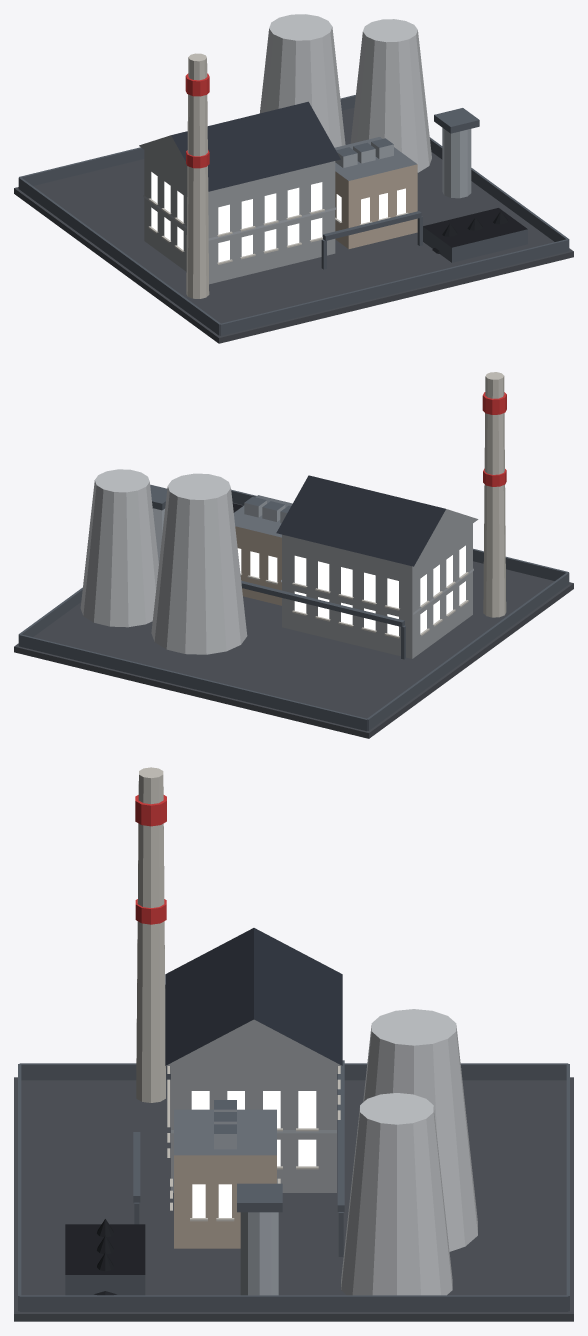
The picture shows the model from 3 angles, top to bottom: view 1: azimuth 30°, elevation 25°; view 2: azimuth 150°, elevation 25°; view 3: azimuth 270°, elevation 25°; orthographic projection. The views are drawn at different scales.
Visible parts, largest first — view 1: b40_x2; view 2: b40_x2; view 3: b40_x2.
Boxes of the visible parts, x1,y1,x2,y2 form: b40_x2: (14,14,573,343); b40_x2: (14,372,573,738); b40_x2: (14,767,573,1321).
Bounding box in the file's own units: 1.96 × 1.28 × 1.96.
